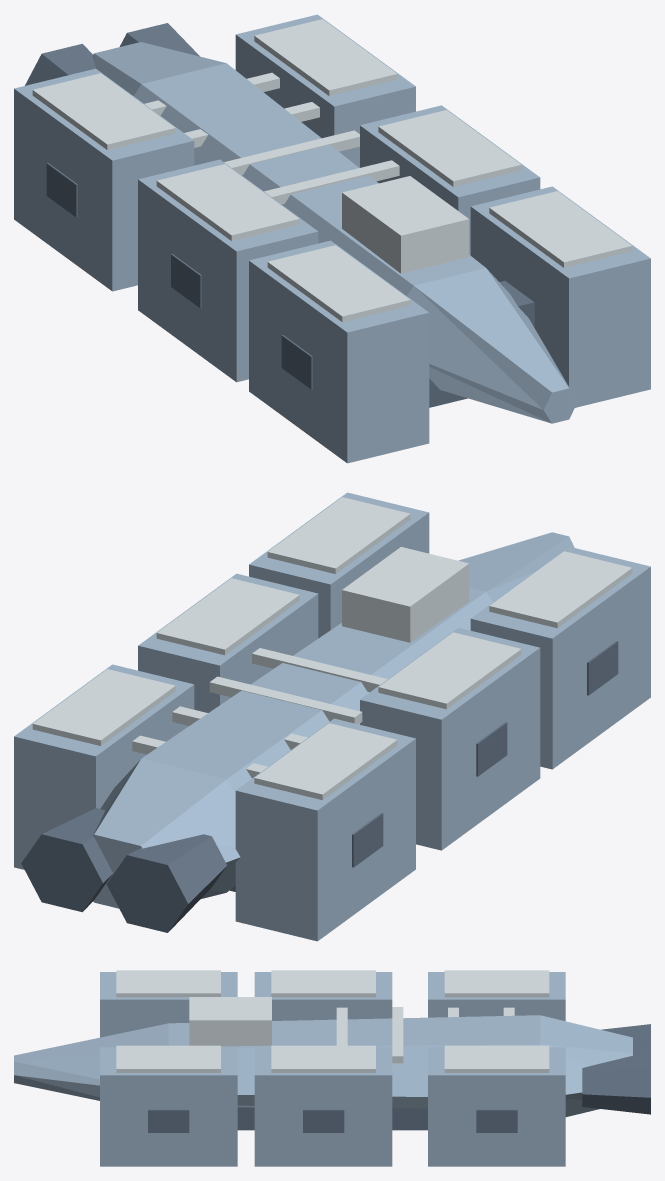
3 views of the same model, one above another, from view 1: azimuth 30°, elevation 25°; view 2: azimuth 150°, elevation 25°; view 3: azimuth 270°, elevation 25° (orthographic). The views are drawn at different scales.
Bounding box in the file's own units: 3.46 × 1.64 × 8.89.
